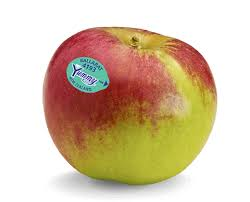apple: (46, 31, 216, 183)
